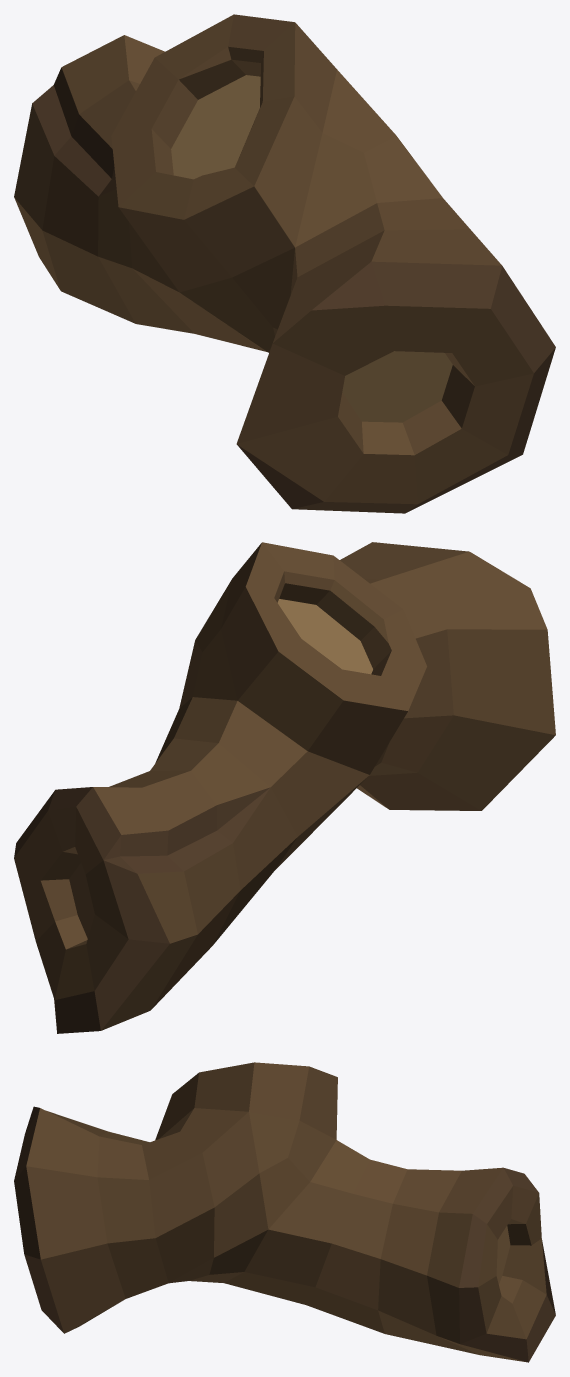
The picture shows the model from 3 angles, top to bottom: view 1: azimuth 30°, elevation 25°; view 2: azimuth 150°, elevation 25°; view 3: azimuth 270°, elevation 25°; orthographic projection. The views are drawn at different scales.
Parts seen in each view (by area): view 1: EM_Root4b_LOD0; view 2: EM_Root4b_LOD0; view 3: EM_Root4b_LOD0.
Part boxes in pixels (box(x1,y1,x2,y2)): EM_Root4b_LOD0: box(14, 14, 555, 513); EM_Root4b_LOD0: box(14, 542, 555, 1033); EM_Root4b_LOD0: box(14, 1062, 555, 1362).
Size of what is drawn, in the model's own units: 1.03 by 1.26 by 2.15.
